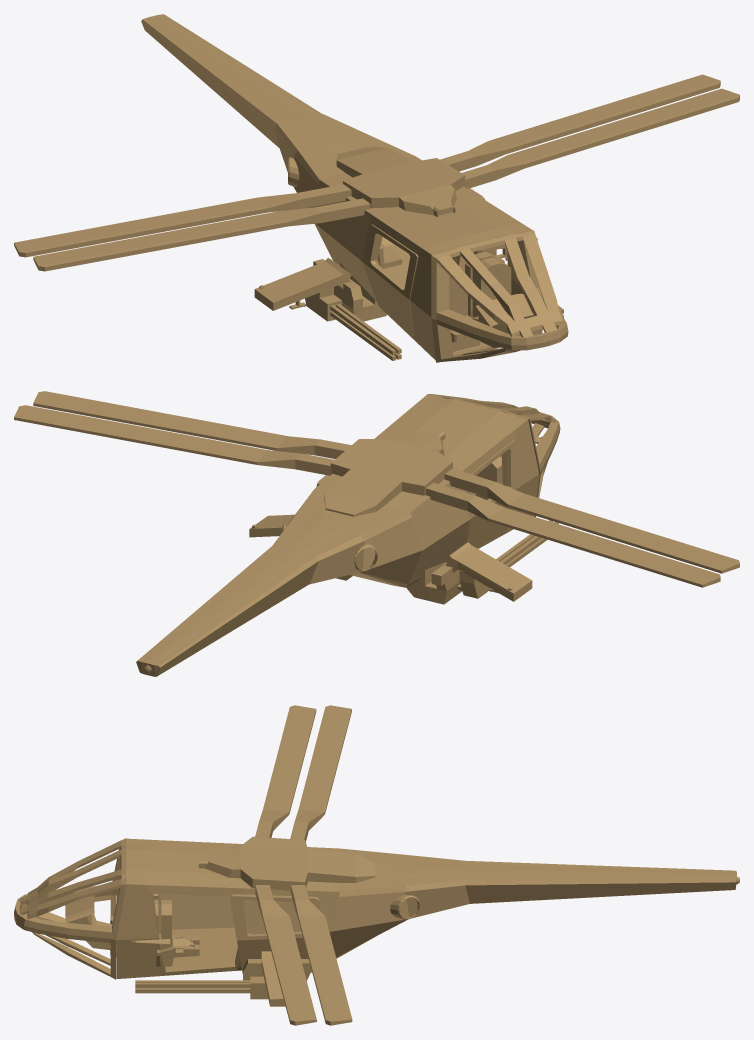
File: dragonflyM_UV.fbx
3 renders of one model, top to bottom at view 1: azimuth 30°, elevation 25°; view 2: azimuth 150°, elevation 25°; view 3: azimuth 270°, elevation 25°, orthographic. The views are drawn at different scales.
Visible parts, largest first — view 1: Cube.041, cockpitframe, Cube.058, backblade.001, forwardblade.001, forwardblade, backblade, Cube.016, door_right, barrel.001, Cube.053, Cube.054 (+2 smaller); view 2: Cube.041, Cube.058, backblade.001, forwardblade.001, backblade, forwardblade, Cube.016, cockpitframe, door_right, barrel.001, Cube.061; view 3: Cube.041, cockpitframe, Cube.058, backblade, forwardblade, backblade.001, forwardblade.001, door_right, door_left, barrel, Cube.016, Cube.002 (+1 smaller).
Boxes of the visible parts, x1,y1,x2,y2 form: Cube.041: (141,14,532,359); cockpitframe: (431,230,568,362); Cube.058: (336,147,465,217); backblade.001: (14,184,351,257); forwardblade.001: (33,198,372,271); forwardblade: (462,88,739,188); backblade: (440,74,720,171); Cube.016: (254,237,537,321); door_right: (363,224,418,335); barrel.001: (330,304,401,360); Cube.053: (472,257,520,335); Cube.054: (449,275,480,351); Cube.041: (136,394,539,676); Cube.058: (324,428,452,516); backblade.001: (425,482,720,587); forwardblade.001: (444,468,739,573); backblade: (14,405,334,475); forwardblade: (33,391,351,458); Cube.016: (249,514,532,604); cockpitframe: (427,394,560,516); door_right: (466,439,517,547); barrel.001: (496,520,558,567); Cube.061: (457,570,489,598); Cube.041: (116,838,736,978); cockpitframe: (14,838,126,979); Cube.058: (198,836,375,890); backblade: (290,885,352,1025); forwardblade: (255,885,316,1025); backblade.001: (290,705,351,841); forwardblade.001: (255,705,316,837); door_right: (159,894,234,929); door_left: (229,894,319,973); barrel: (135,980,250,993); Cube.016: (243,951,311,1006); Cube.002: (65,895,112,949).
Bounding box in the file's own units: 616 × 97.9 × 597.
